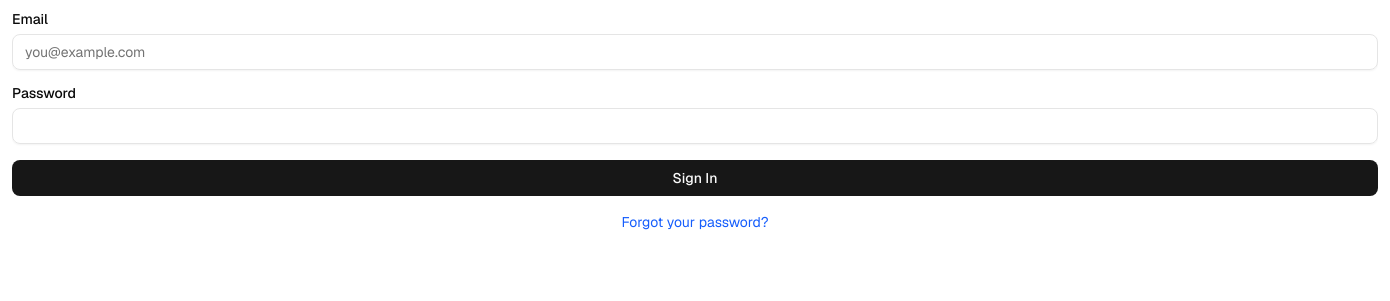
Test: shows fallback error when sign in fails without message
This screenshot has width=1390, height=301.
In the field labelled "Email": coordinates (695, 52) [12, 34, 1378, 70], type "user@example.com"
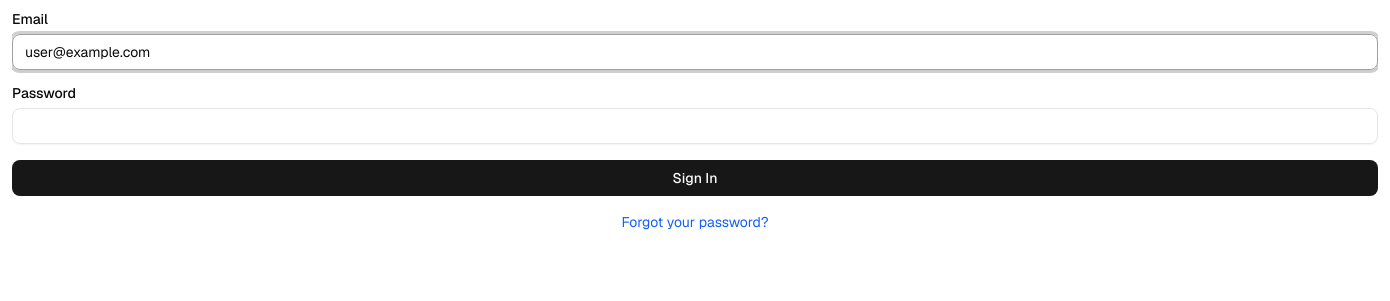
In the password field labelled "Password": coordinates (695, 126) [12, 108, 1378, 144], type "password123"
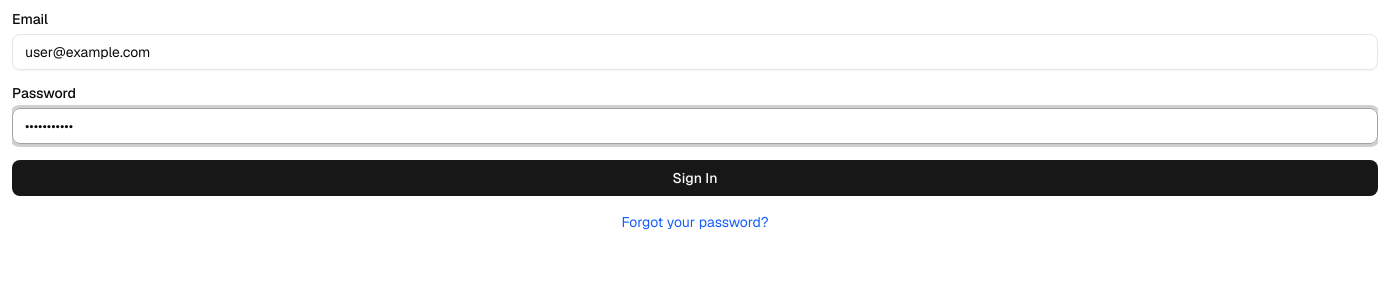
Click the button "Sign In": coordinates (695, 178) [12, 160, 1378, 196]
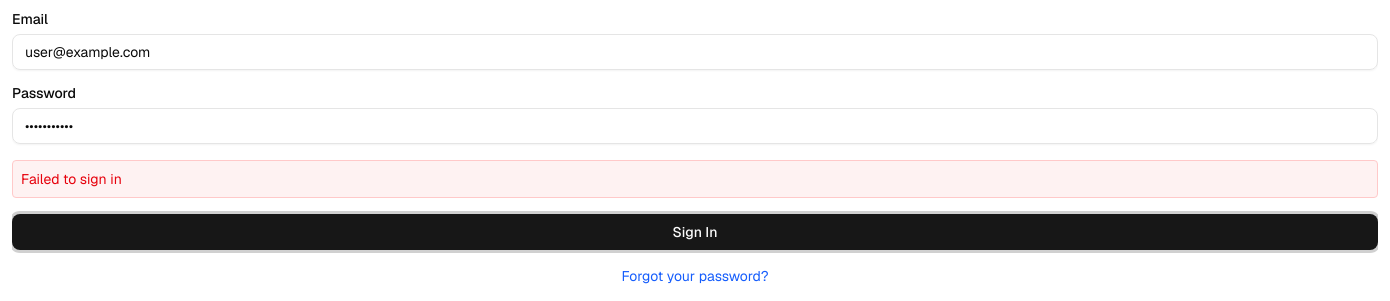
Now the text "Failed to sign in" is shown, box [12, 160, 1378, 198]
